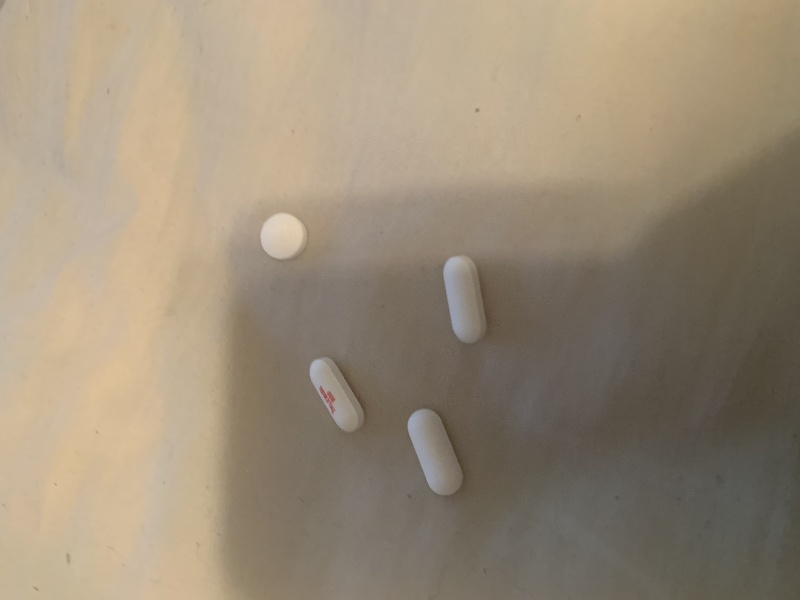Aspirin: (255, 209, 314, 265)
Tylenol: (403, 405, 471, 503), (438, 250, 492, 354), (306, 351, 368, 441)
